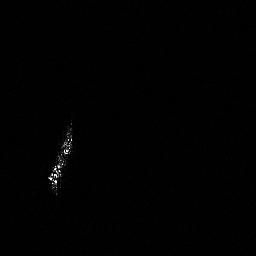ship: (46, 121, 75, 196)
